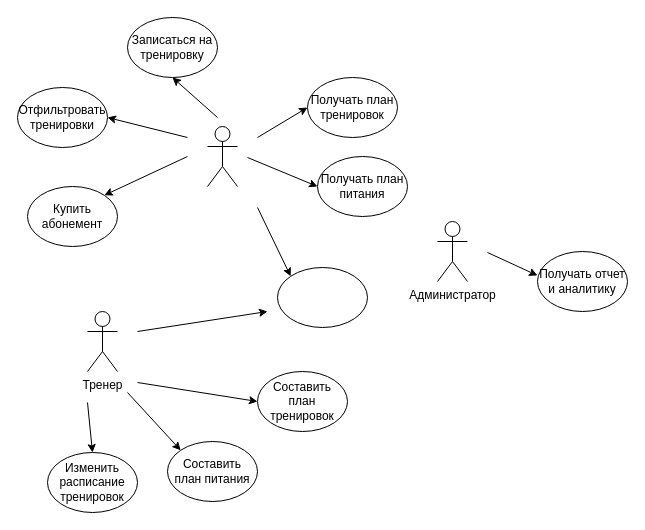
Image size: 645x530. Some labels were removed from this diagram. The shapes that lost their labels are listed below. From the top down, each one's box as (x1, y1, x2, y2) in pixels, then its label:
(206, 126, 238, 186): Клиент
(276, 266, 368, 328): Узнать расписание тренировок
